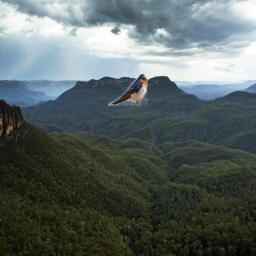Swallow: (108, 74, 148, 106)
